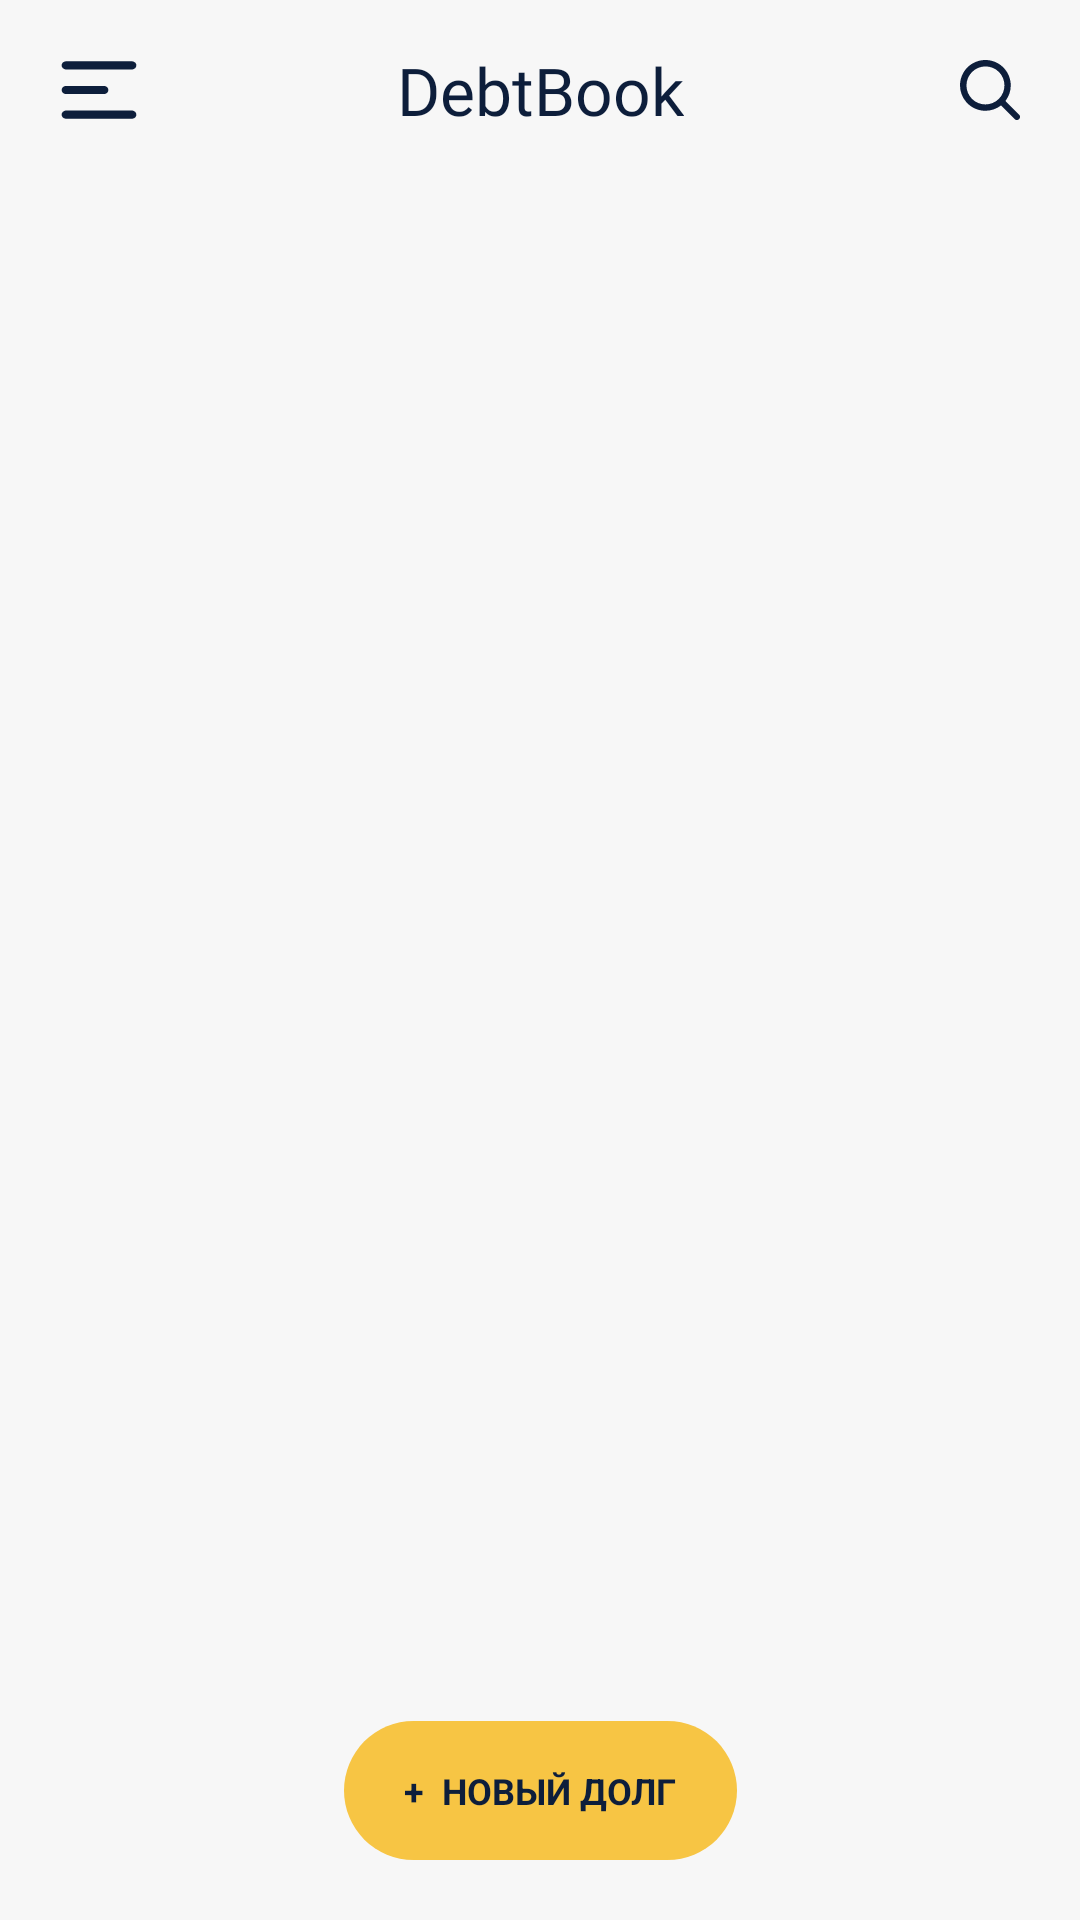

Icon click points for this 1080px x 1920px phone screenshot, format point (x, y):
menu: point (99, 90)
search: point (990, 90)
